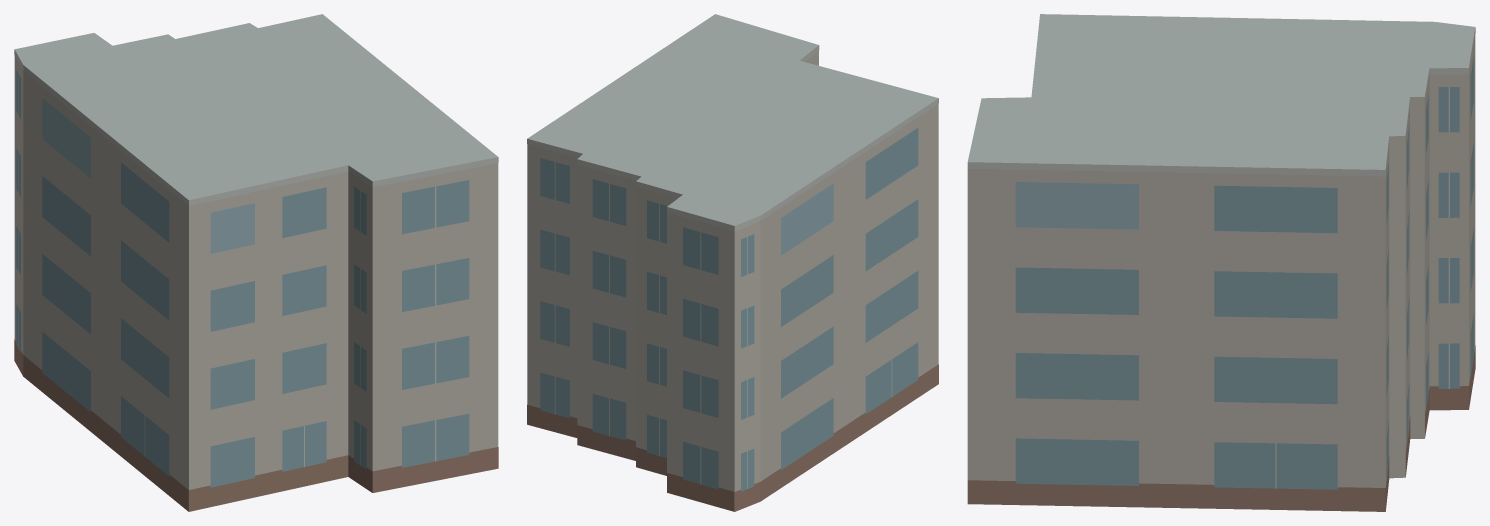
Rendered from survey-upis-32644784.glb.
3 views of the same model, side by side, from view 1: azimuth 30°, elevation 25°; view 2: azimuth 150°, elevation 25°; view 3: azimuth 270°, elevation 25° (orthographic). The views are drawn at different scales.
Visible parts, largest first — view 1: survey-upis-32644784.tmp; view 2: survey-upis-32644784.tmp; view 3: survey-upis-32644784.tmp.
Boxes of the visible parts, x1,y1,x2,y2 form: survey-upis-32644784.tmp: [14, 14, 498, 511]; survey-upis-32644784.tmp: [527, 14, 938, 511]; survey-upis-32644784.tmp: [967, 14, 1475, 511].
Size of the model in its own units: 12.63 by 12.9 by 17.37.
